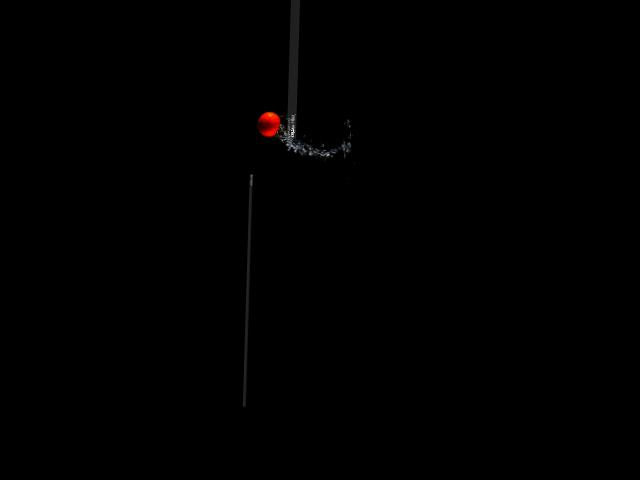tomato: (257, 111, 281, 137)
